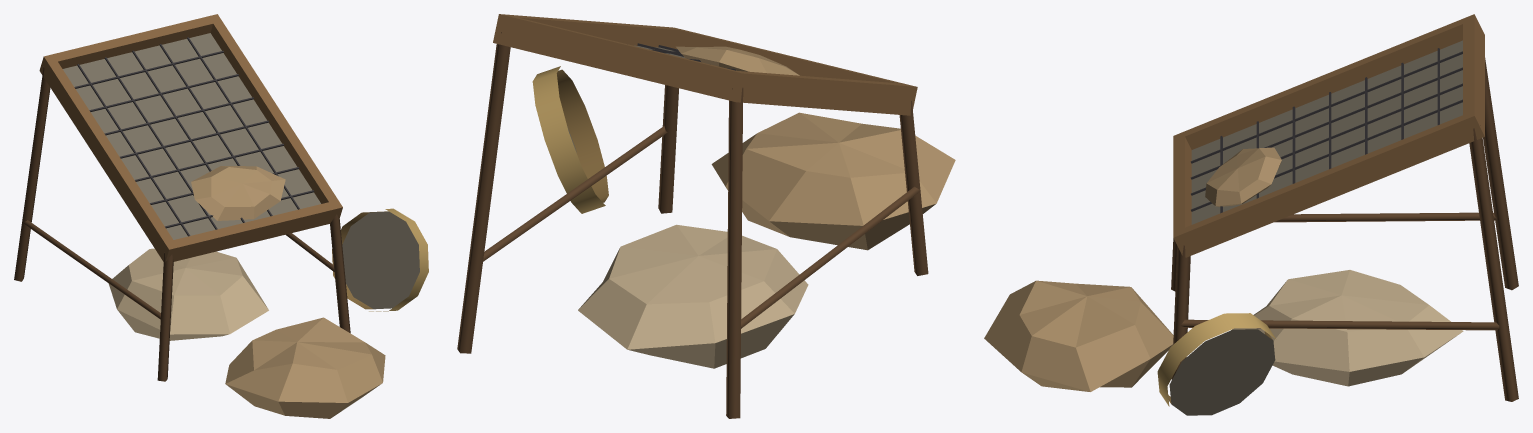
Rendered from sieve.glb.
The picture shows the model from 3 angles, left to right: view 1: azimuth 30°, elevation 25°; view 2: azimuth 150°, elevation 25°; view 3: azimuth 270°, elevation 25°; orthographic projection. The views are drawn at different scales.
Visible parts, largest first — view 1: sieve; view 2: sieve; view 3: sieve.
Boxes of the visible parts, left/top/right/bottom form: sieve: left=14, top=14, right=428, bottom=418; sieve: left=457, top=14, right=955, bottom=418; sieve: left=984, top=14, right=1518, bottom=415.
Bounding box in the file's own units: 1.21 × 1.08 × 1.69.
